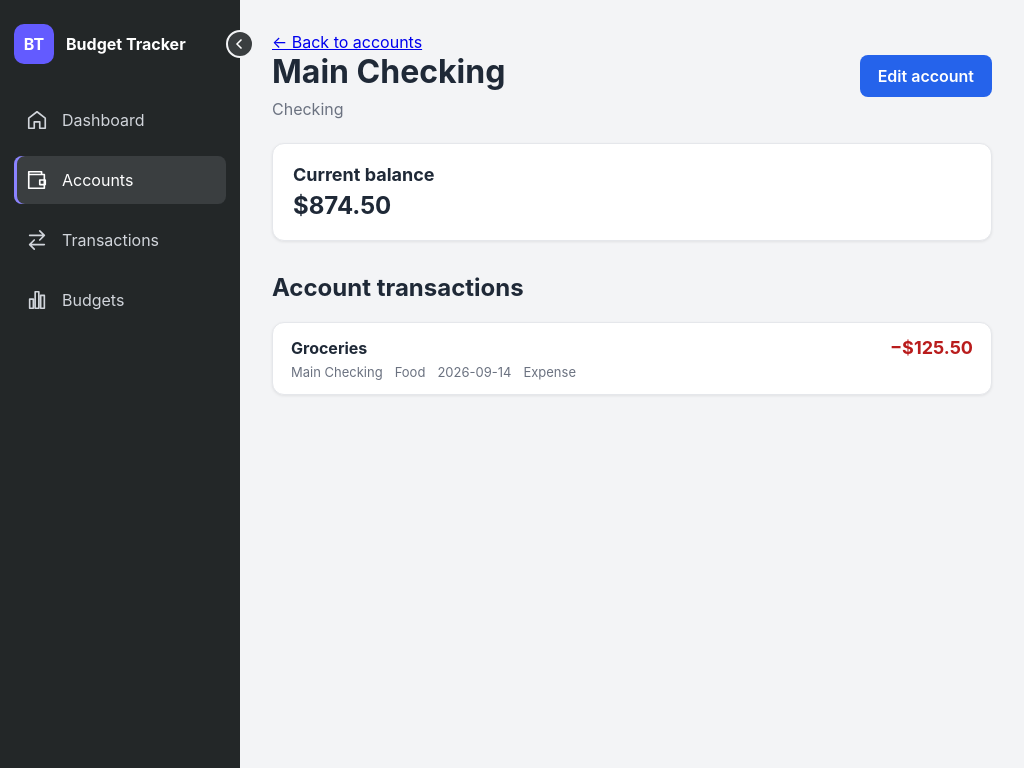
Test: returns to the originating account after transaction save
Click the link "Groceries −$125.50 Main Checking Food 2026-09-14 Expense".
click(329, 348)  # box [272,322,992,395]
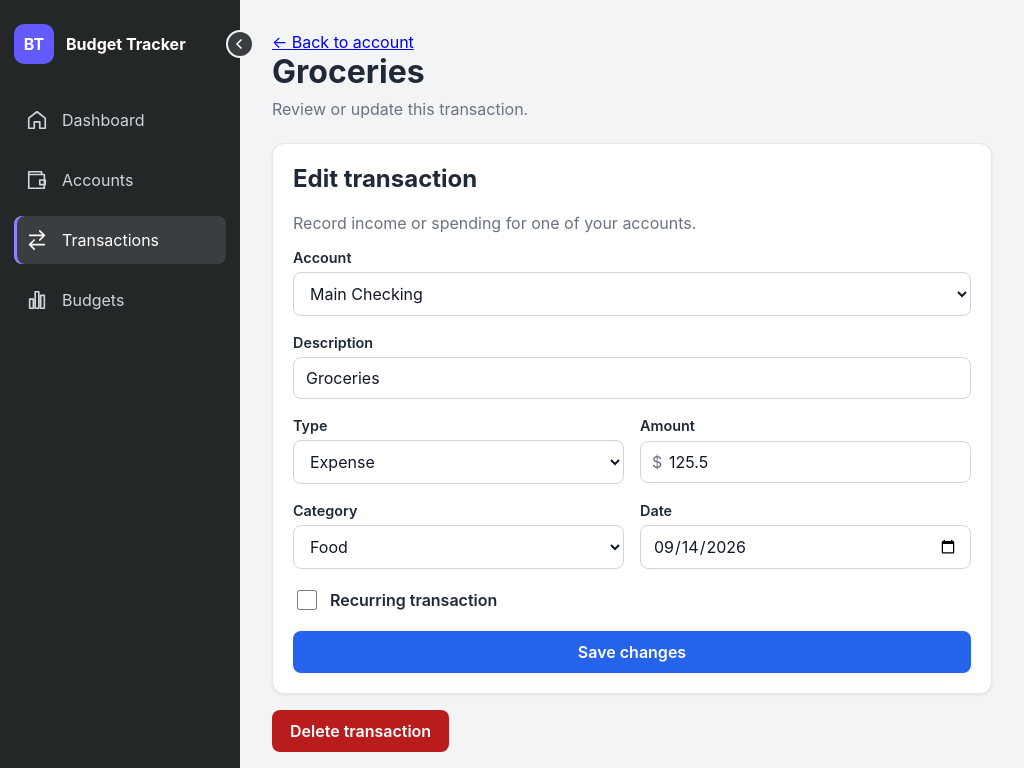
Select "Other account" in the dropdown labelled "Account" at (632,294), box [293,272,971,316]
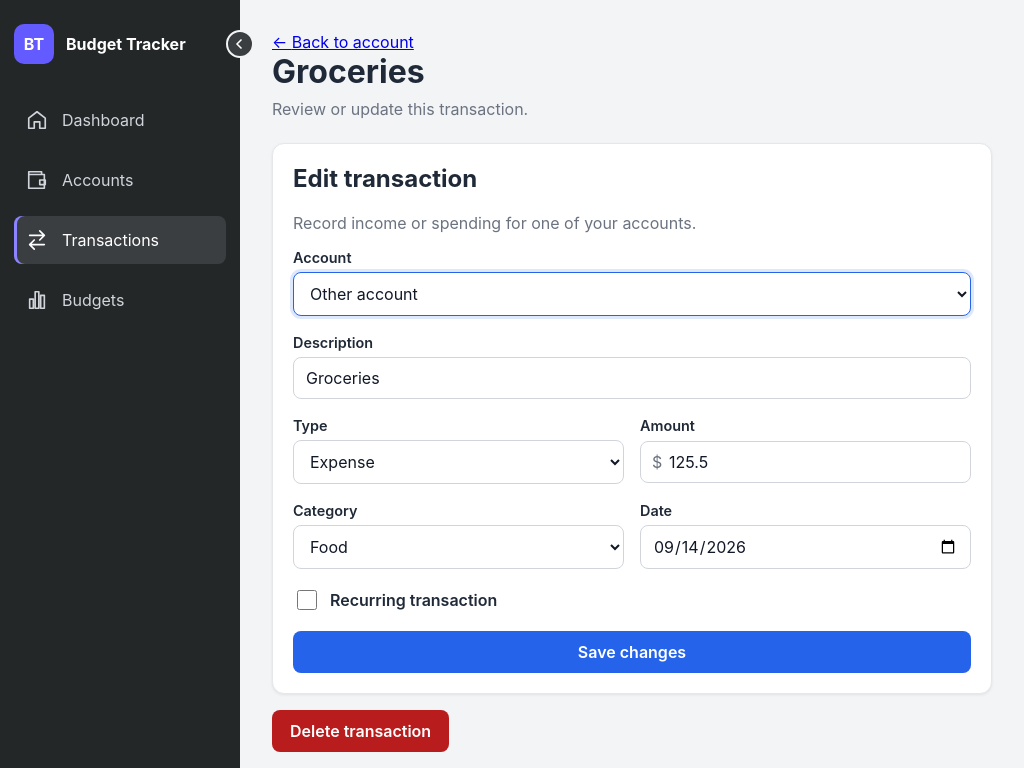
Click the button "Save changes".
click(632, 652)  # box [293,631,971,673]
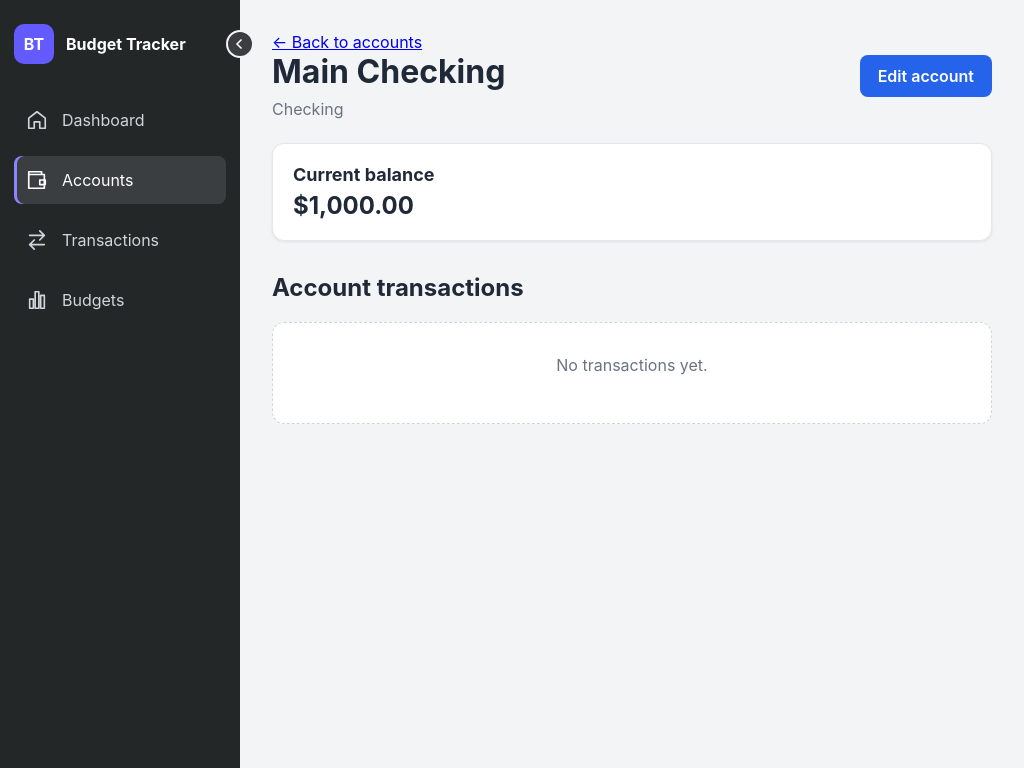
Result: the heading "Main Checking" is shown at [272,52,505,91]
Result: the text "$1,000.00" is shown at [293,191,414,220]
Result: the text "No transactions yet." is shown at [556,355,708,375]
